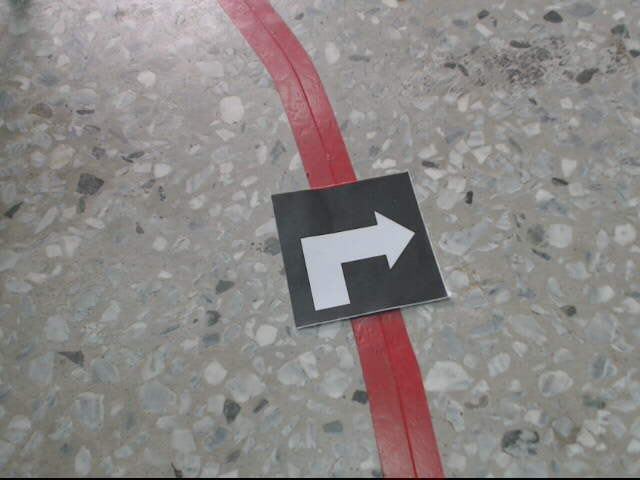right: (273, 170, 448, 326)
